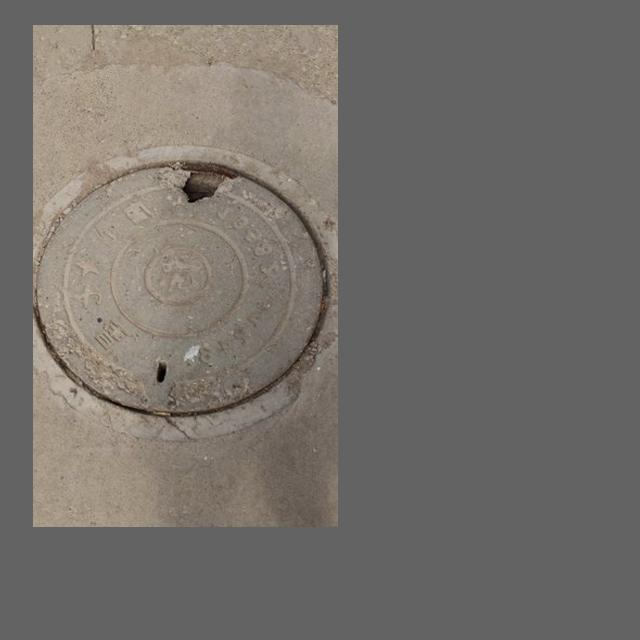broke: (36, 137, 334, 437)
